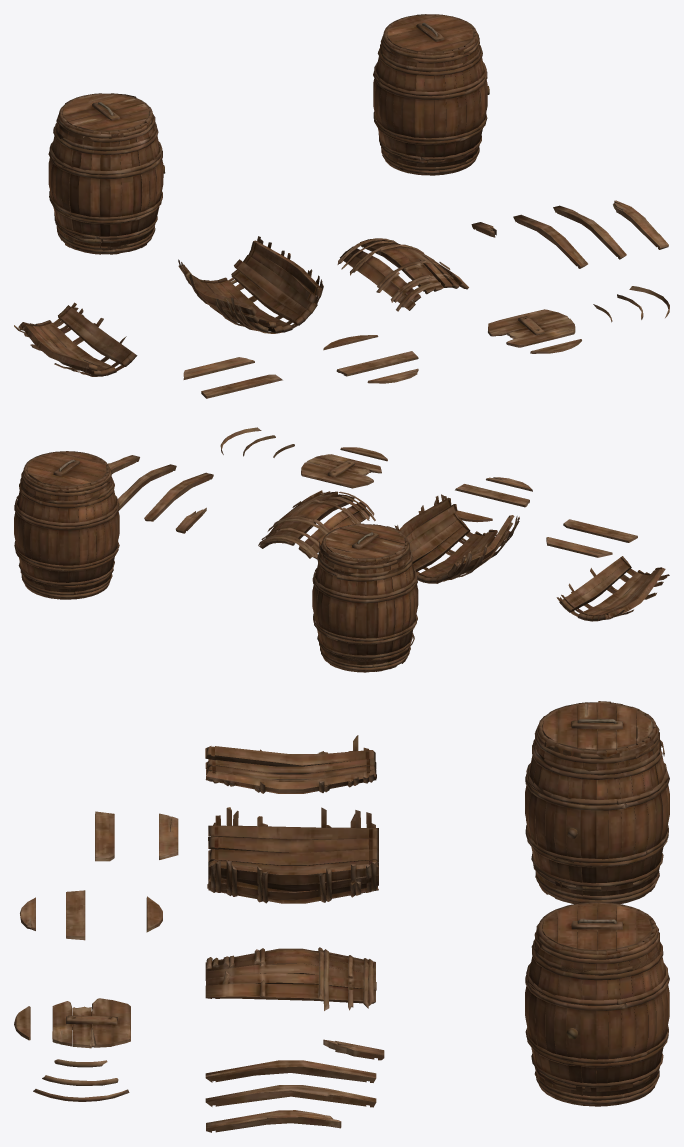
Rendered from barrels.glb.
The picture shows the model from 3 angles, top to bottom: view 1: azimuth 30°, elevation 25°; view 2: azimuth 150°, elevation 25°; view 3: azimuth 270°, elevation 25°; orthographic projection. The views are drawn at different scales.
Parts seen in each view (by area): view 1: wooden_barrels_01_barrel02, wooden_barrels_01_barrel01, wooden_barrels_01_piece01, wooden_barrels_01_piece03, wooden_barrels_01_piece02, wooden_barrels_01_piece08, wooden_barrels_01_piece04, wooden_barrels_01_piece05, wooden_barrels_01_piece06, wooden_barrels_01_piece11, wooden_barrels_01_piece14, wooden_barrels_01_piece13; view 2: wooden_barrels_01_barrel02, wooden_barrels_01_barrel01, wooden_barrels_01_piece01, wooden_barrels_01_piece03, wooden_barrels_01_piece02, wooden_barrels_01_piece08, wooden_barrels_01_piece04, wooden_barrels_01_piece14, wooden_barrels_01_piece11, wooden_barrels_01_piece05, wooden_barrels_01_piece13; view 3: wooden_barrels_01_barrel01, wooden_barrels_01_barrel02, wooden_barrels_01_piece01, wooden_barrels_01_piece03, wooden_barrels_01_piece02, wooden_barrels_01_piece08, wooden_barrels_01_piece04, wooden_barrels_01_piece05, wooden_barrels_01_piece06, wooden_barrels_01_piece14, wooden_barrels_01_piece11, wooden_barrels_01_piece13 (+1 smaller).
Part boxes in pixels (box(x1,y1,x2,y2)): wooden_barrels_01_barrel02: box(48, 93, 165, 254); wooden_barrels_01_barrel01: box(373, 14, 489, 175); wooden_barrels_01_piece01: box(178, 236, 323, 333); wooden_barrels_01_piece03: box(337, 238, 468, 311); wooden_barrels_01_piece02: box(14, 302, 137, 376); wooden_barrels_01_piece08: box(488, 309, 575, 347); wooden_barrels_01_piece04: box(513, 214, 587, 268); wooden_barrels_01_piece05: box(553, 205, 626, 259); wooden_barrels_01_piece06: box(613, 200, 668, 249); wooden_barrels_01_piece11: box(336, 351, 418, 376); wooden_barrels_01_piece14: box(201, 374, 282, 398); wooden_barrels_01_piece13: box(183, 357, 254, 379); wooden_barrels_01_barrel02: box(312, 523, 418, 672); wooden_barrels_01_barrel01: box(14, 451, 119, 599); wooden_barrels_01_piece01: box(394, 494, 519, 583); wooden_barrels_01_piece03: box(258, 490, 375, 559); wooden_barrels_01_piece02: box(556, 556, 669, 621); wooden_barrels_01_piece08: box(301, 454, 381, 488); wooden_barrels_01_piece04: box(144, 472, 213, 521); wooden_barrels_01_piece14: box(563, 519, 637, 542); wooden_barrels_01_piece11: box(455, 484, 529, 507); wooden_barrels_01_piece05: box(118, 464, 176, 510); wooden_barrels_01_piece13: box(546, 537, 612, 557); wooden_barrels_01_barrel01: box(525, 902, 669, 1106); wooden_barrels_01_barrel02: box(525, 701, 669, 903); wooden_barrels_01_piece01: box(207, 807, 378, 903); wooden_barrels_01_piece03: box(205, 947, 376, 1010); wooden_barrels_01_piece02: box(205, 735, 376, 793); wooden_barrels_01_piece08: box(52, 998, 130, 1048); wooden_barrels_01_piece04: box(205, 1060, 376, 1082); wooden_barrels_01_piece05: box(205, 1085, 376, 1107); wooden_barrels_01_piece06: box(206, 1110, 341, 1132); wooden_barrels_01_piece14: box(95, 811, 114, 861); wooden_barrels_01_piece11: box(66, 890, 85, 940); wooden_barrels_01_piece13: box(159, 813, 178, 859).
Size of the model in its own units: 4.44 by 0.9533 by 3.34.
3 materials, 3 textured.
